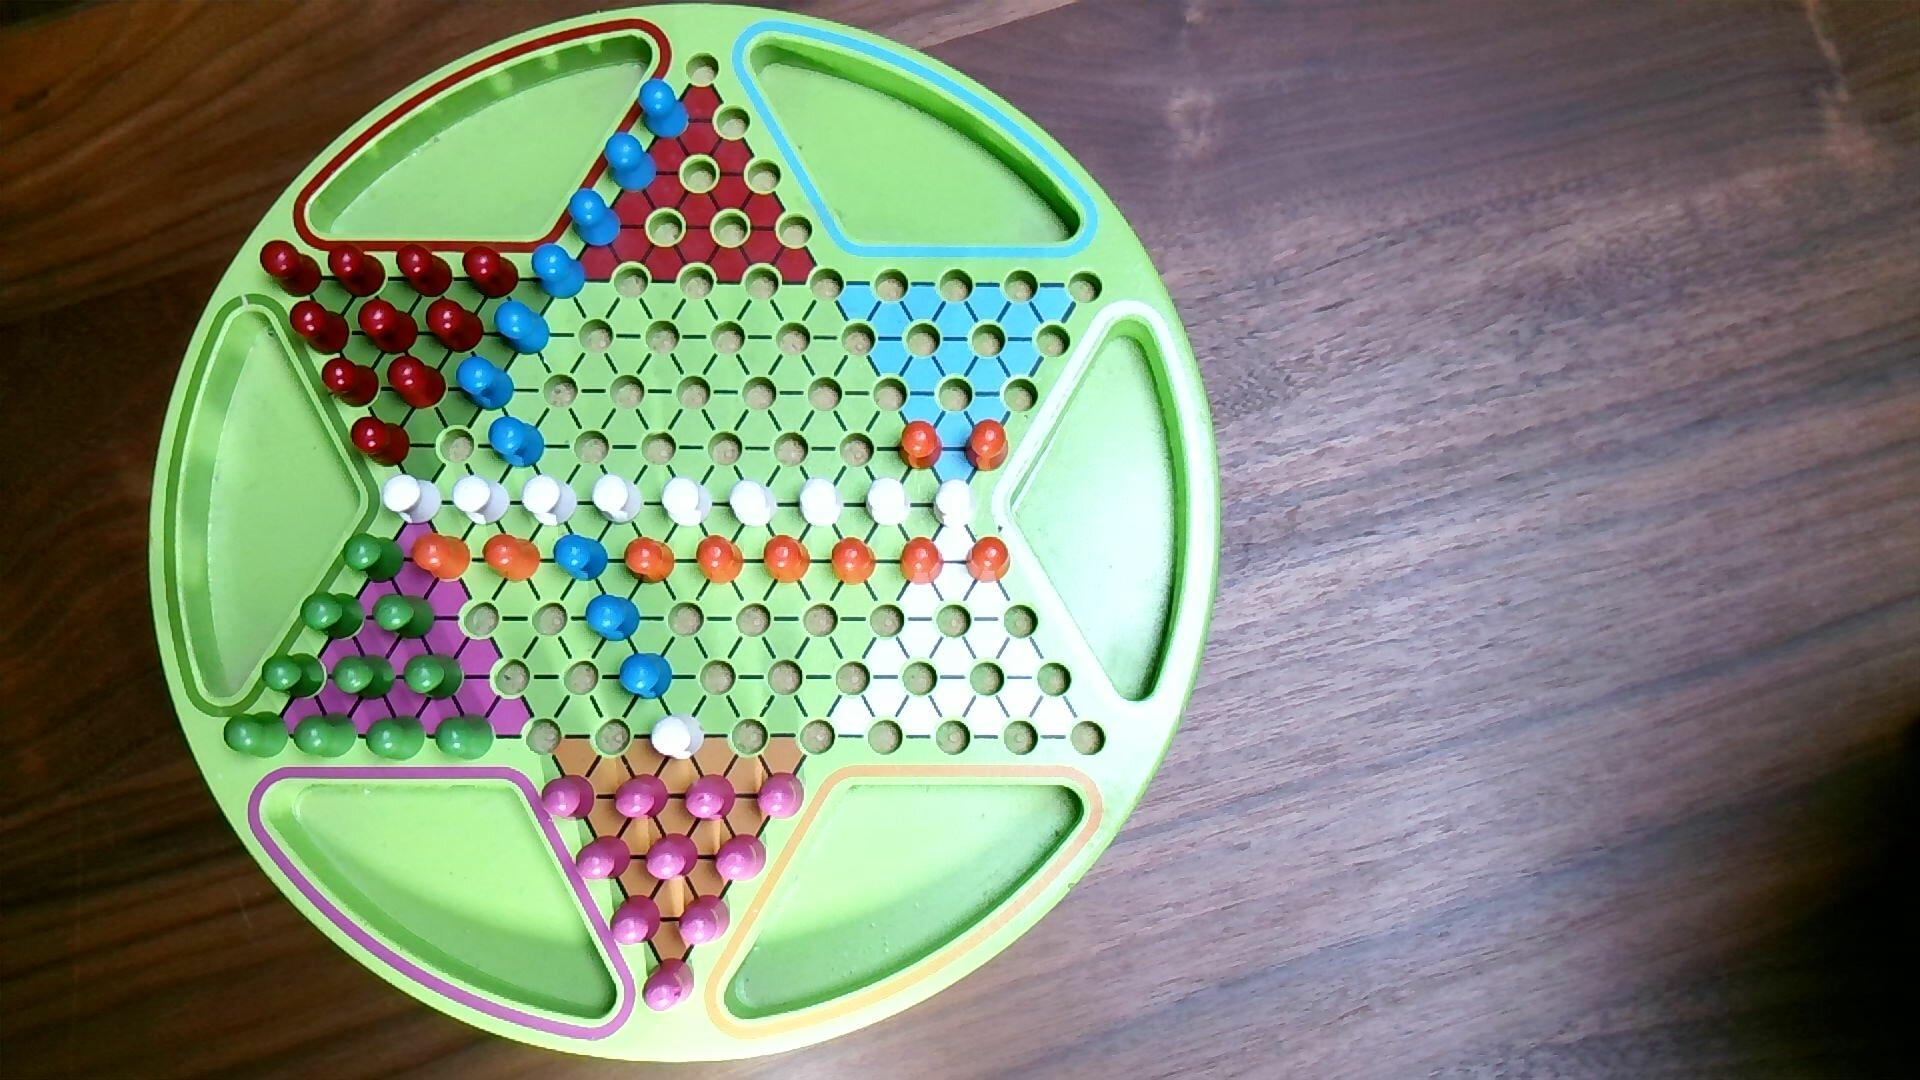B: (564, 187, 624, 251), (636, 76, 692, 142), (603, 131, 659, 195), (530, 243, 589, 303), (454, 356, 517, 413), (493, 301, 553, 359), (487, 415, 549, 471), (617, 651, 676, 703), (551, 533, 611, 584), (584, 593, 644, 644)
G: (299, 589, 369, 644), (340, 530, 407, 585), (371, 589, 439, 644), (328, 651, 398, 704), (222, 709, 291, 760), (401, 651, 467, 704), (291, 711, 359, 762), (260, 651, 328, 702), (434, 711, 497, 762), (363, 712, 427, 762)
O: (410, 531, 473, 585), (481, 533, 543, 584), (761, 531, 814, 585), (622, 535, 676, 587), (963, 417, 1011, 473), (695, 533, 746, 585), (895, 419, 945, 472), (829, 535, 878, 587), (964, 535, 1013, 585), (898, 535, 945, 587)
R: (258, 237, 324, 299), (356, 297, 421, 357), (423, 295, 487, 356), (385, 353, 451, 411), (287, 299, 352, 357), (393, 243, 456, 301), (326, 243, 388, 301), (460, 244, 522, 301), (349, 415, 414, 469), (320, 357, 382, 410)
R2: (607, 890, 665, 948), (641, 955, 698, 1014), (676, 891, 732, 948), (712, 829, 769, 884), (539, 773, 597, 825), (612, 771, 671, 823), (572, 833, 633, 884), (644, 831, 700, 884), (682, 773, 737, 823), (756, 770, 806, 822)
W: (518, 473, 580, 530), (451, 473, 513, 529), (381, 473, 444, 527), (589, 471, 646, 527), (658, 476, 717, 530), (647, 712, 708, 764), (728, 477, 782, 531), (796, 476, 847, 530), (864, 477, 913, 529), (931, 477, 976, 531)
